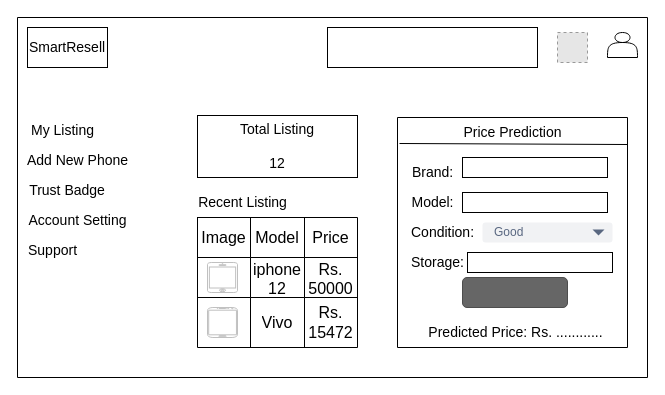
Some shapes in this 665 by 395 pixel diagram are drawn without their labels. Grey dashed boxes stand in for pictures. The box of each missing label's shape, as (x1, y1, x2, y2) in pixels:
Predict Price: (462, 276, 568, 308)
Search: (326, 26, 538, 68)
